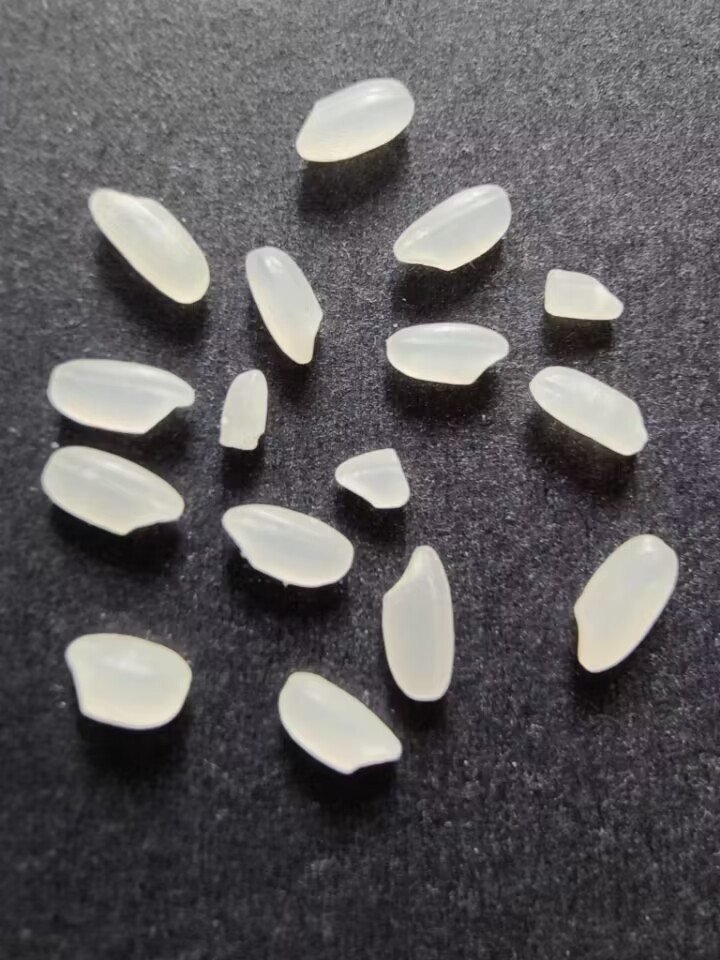broken: (534, 263, 632, 325), (209, 366, 274, 457), (329, 444, 412, 514)
rice: (83, 183, 214, 309), (569, 532, 680, 677), (36, 439, 189, 540), (58, 629, 196, 733), (275, 669, 406, 777), (216, 500, 358, 594), (378, 541, 455, 706), (38, 357, 198, 436), (525, 361, 654, 458), (391, 178, 516, 273), (291, 76, 418, 164), (241, 246, 324, 369), (377, 317, 513, 387)
